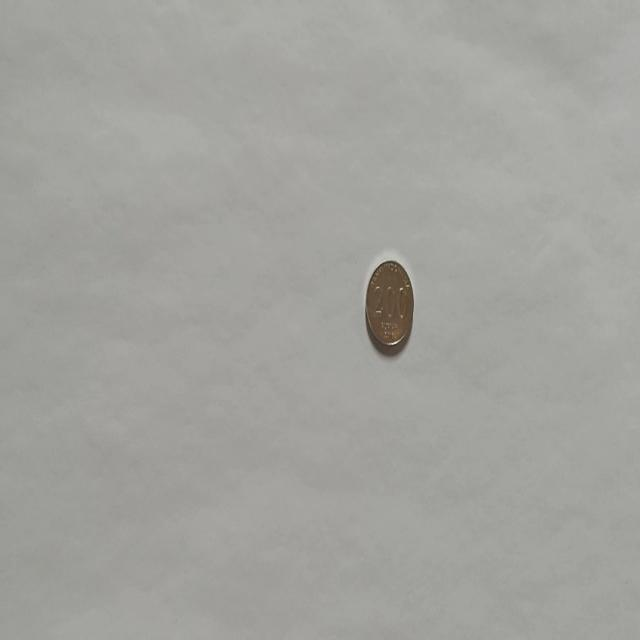dua ratus rupiah: (364, 256, 414, 351)
